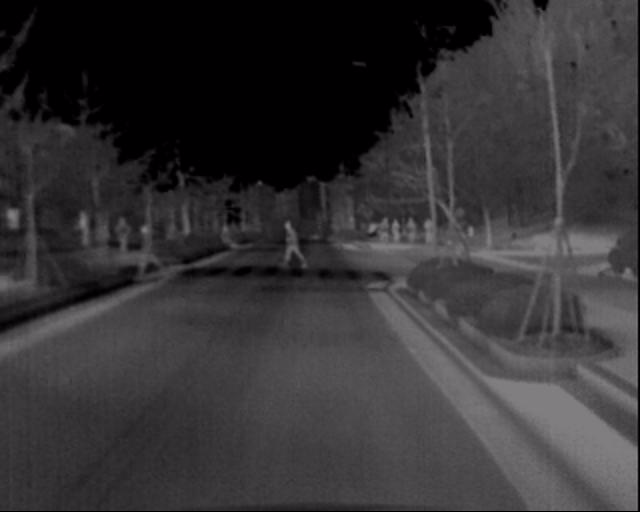person: (124, 220, 158, 285), (277, 212, 303, 273), (107, 219, 127, 264)
